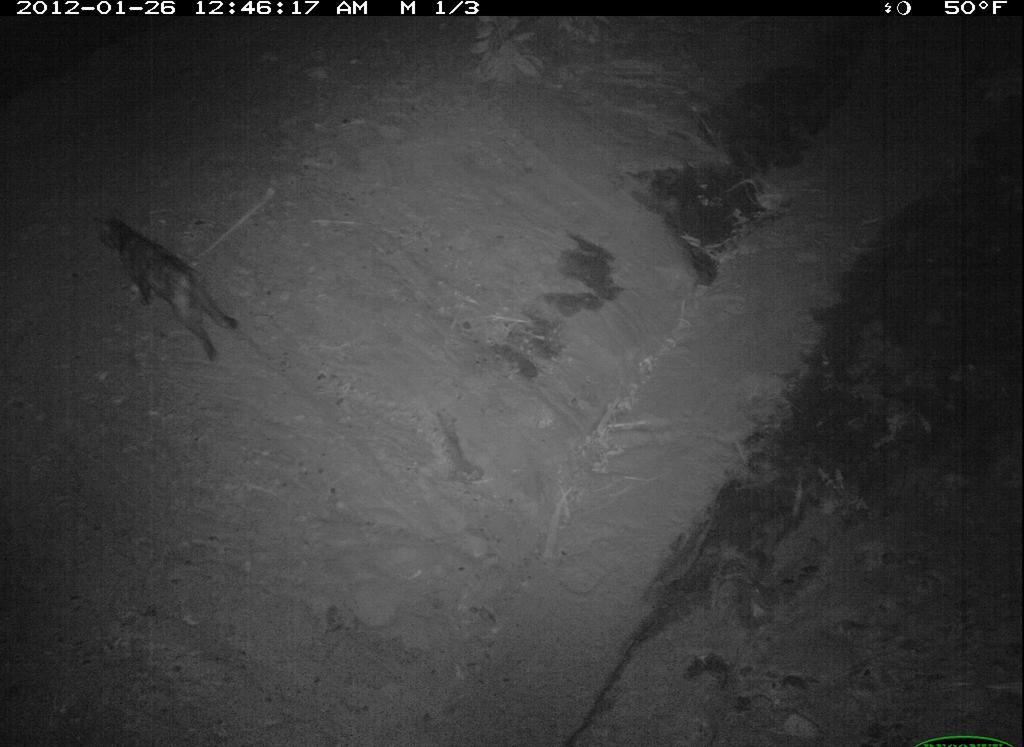cat: (84, 207, 265, 367)
